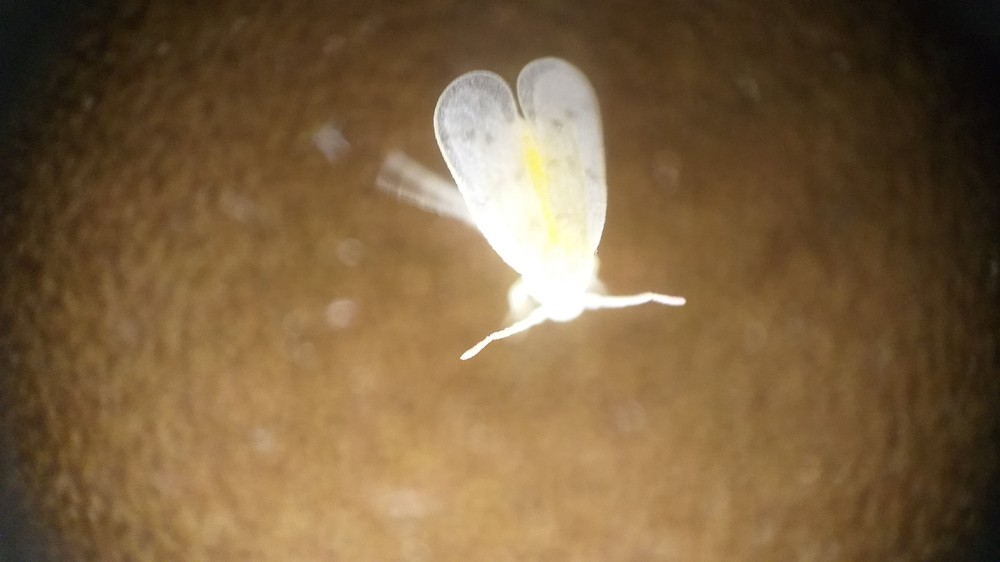Mosca Blanca: (372, 48, 723, 379)
